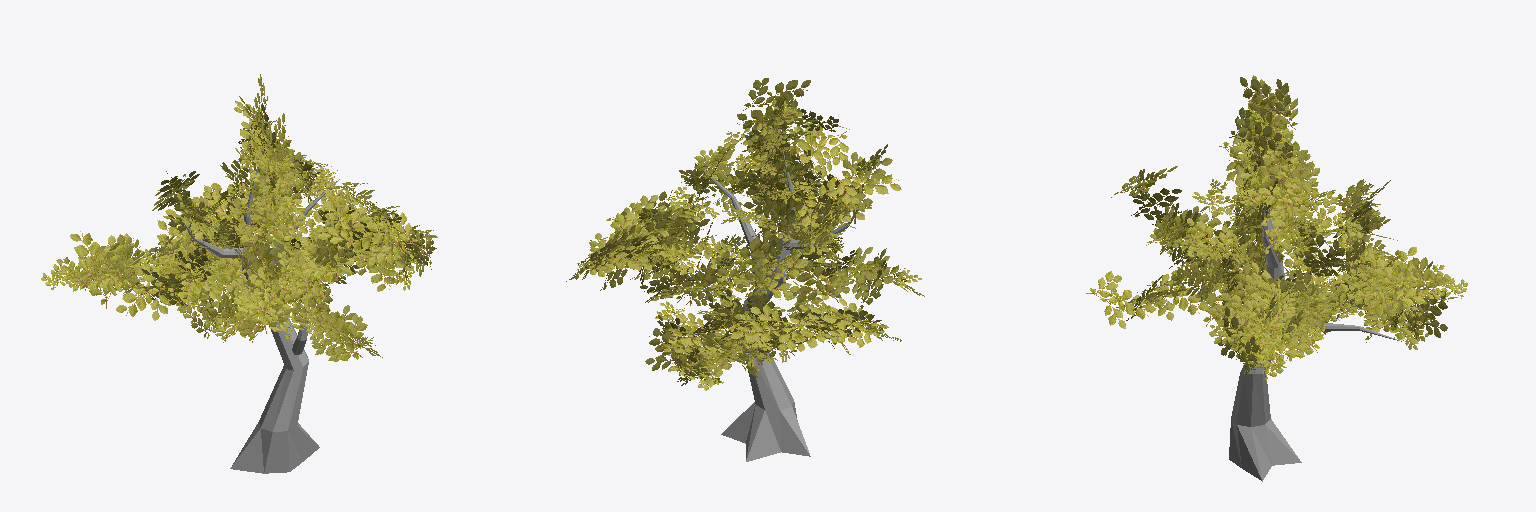
3 renders of one model, left to right at view 1: azimuth 30°, elevation 25°; view 2: azimuth 150°, elevation 25°; view 3: azimuth 270°, elevation 25°, orthographic.
Parts seen in each view (by area): view 1: Circle; view 2: Circle; view 3: Circle.
Part boxes in pixels (left/top/right/bottom): Circle: left=41, top=74, right=437, bottom=473; Circle: left=566, top=78, right=924, bottom=461; Circle: left=1086, top=75, right=1467, bottom=481.
Size of the model in its own units: 19.43 by 20.51 by 18.34.
Materials: 2 (1 with a texture image).